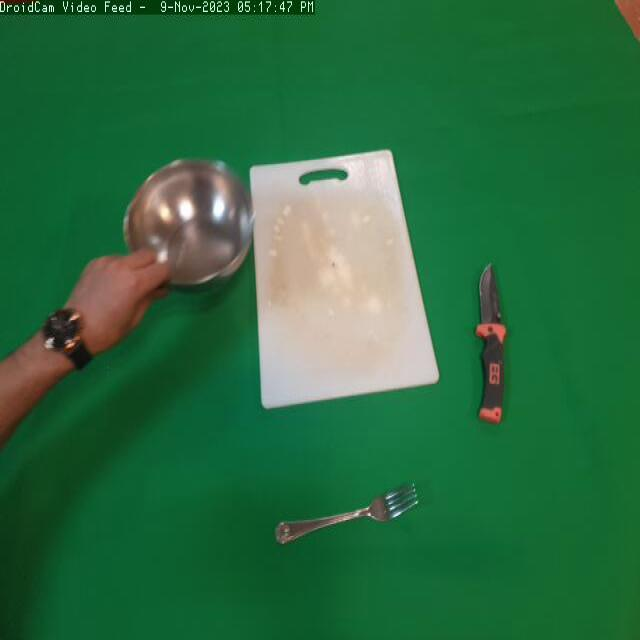bowl: (122, 150, 259, 301)
cutting board: (242, 143, 449, 434)
fork: (252, 472, 433, 562)
knife: (467, 248, 526, 459)
